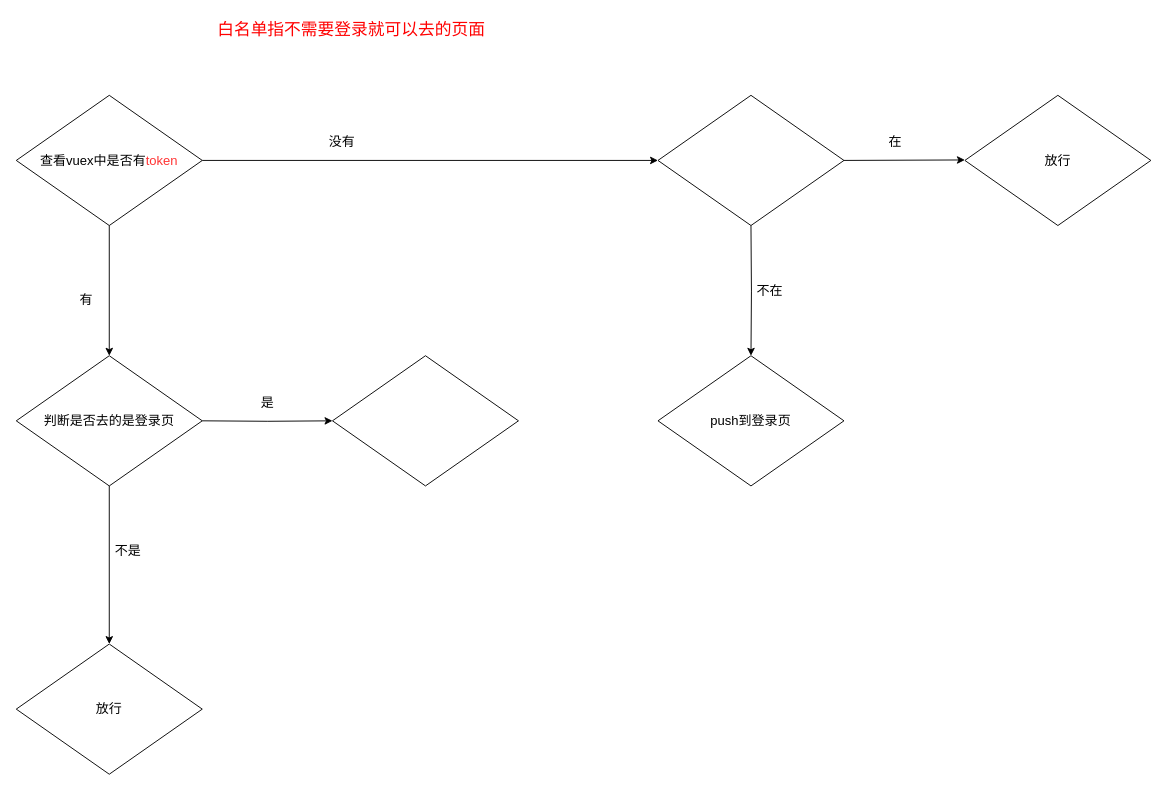
The diagram is 1167 pixels wide and 791 high, and some of its shapes have lost their labels. Here are the shapes that lost their labels. From the top down, the centre of each, then its label:
At pixel 750 160: "判断去的页面是否 在白名单上".
At pixel 425 420: "重定向到首页( 免登陆 )".
